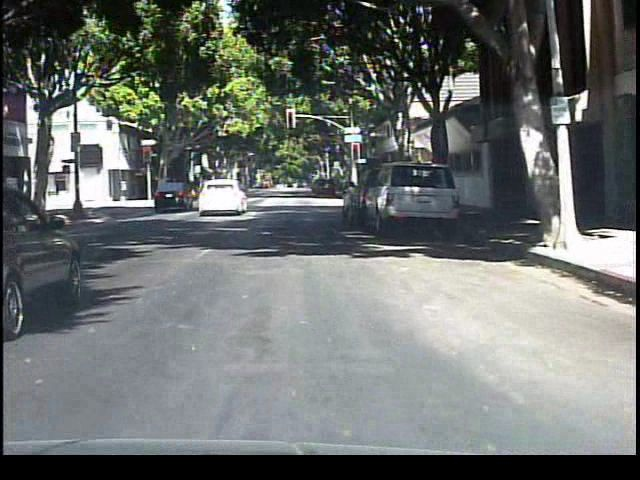person: (193, 170, 217, 214)
